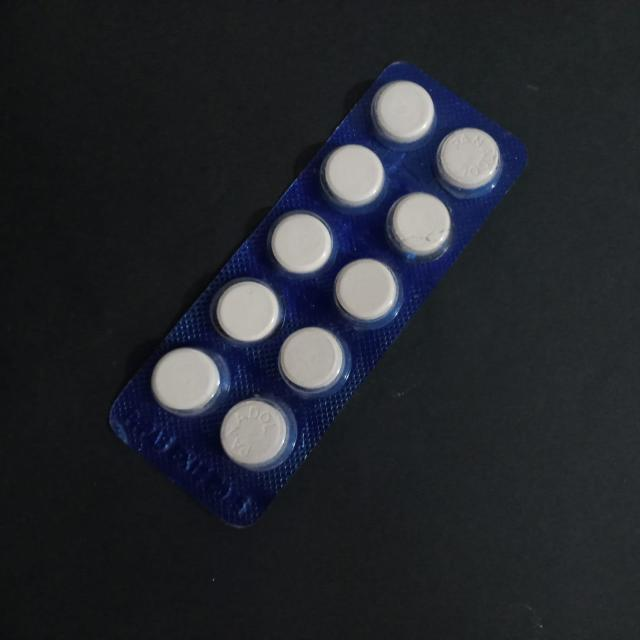defect: (386, 191, 454, 258)
